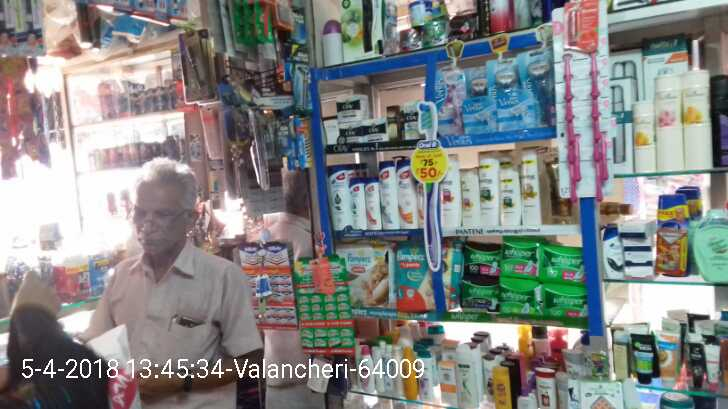gillete: (292, 43, 313, 109), (295, 117, 312, 168), (292, 6, 306, 40), (285, 117, 292, 170), (276, 1, 289, 29)
venus: (489, 61, 524, 129), (524, 45, 552, 129), (438, 73, 454, 138), (458, 98, 487, 129), (471, 61, 489, 93)
